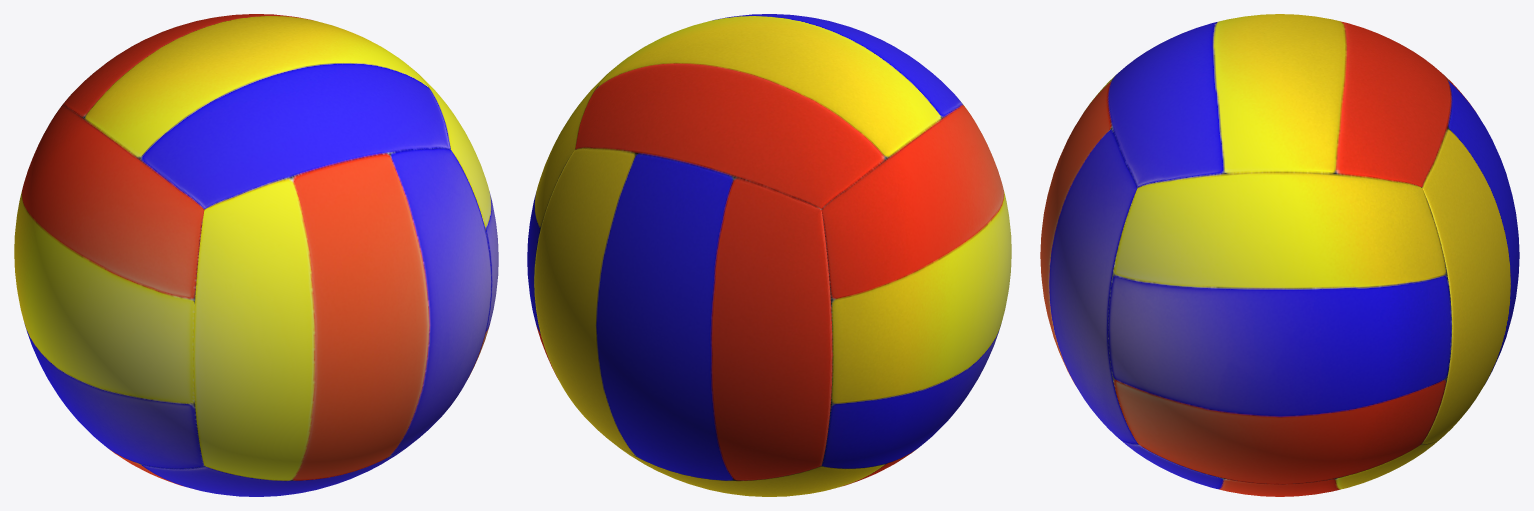
The model's file is 10541_volleyball_V1_Iterations-2.obj.
The picture shows the model from 3 angles, left to right: view 1: azimuth 30°, elevation 25°; view 2: azimuth 150°, elevation 25°; view 3: azimuth 270°, elevation 25°; orthographic projection.
Parts seen in each view (by area): view 1: 10541_volleyball_v1; view 2: 10541_volleyball_v1; view 3: 10541_volleyball_v1.
Part boxes in pixels (left/top/right/bottom): 10541_volleyball_v1: left=14, top=14, right=498, bottom=496; 10541_volleyball_v1: left=527, top=14, right=1011, bottom=496; 10541_volleyball_v1: left=1040, top=14, right=1519, bottom=496.
Size of the model in its own units: 18.11 by 18.11 by 18.11.
Materials: 1 (1 with a texture image).
